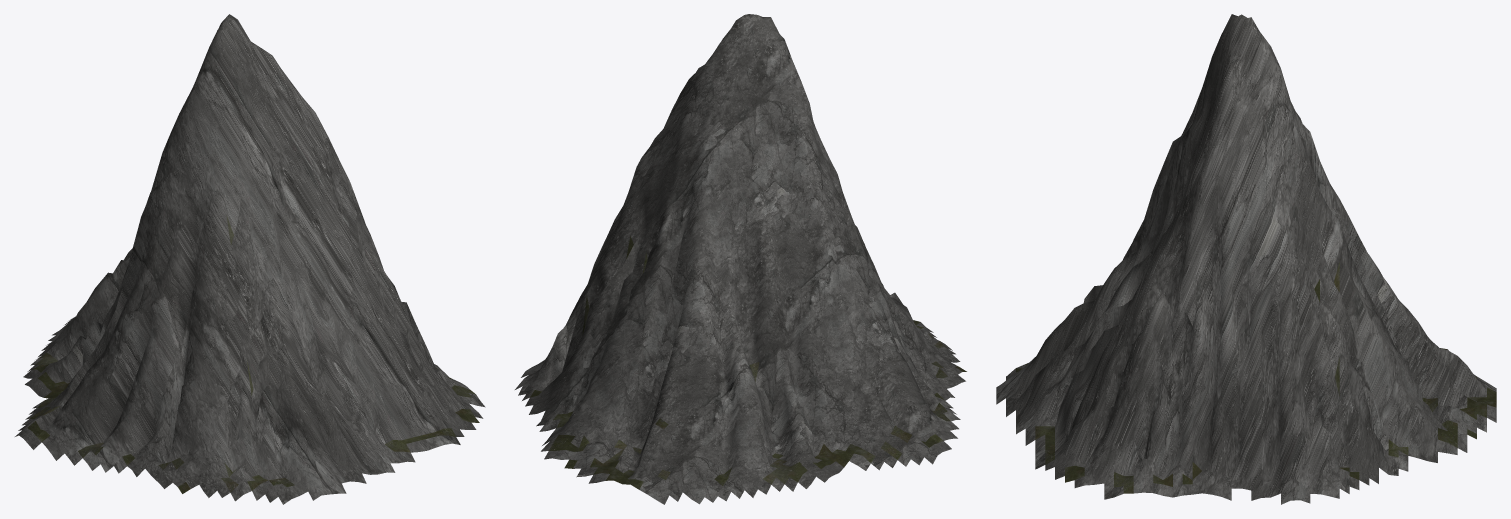
The model's file is border_peak_a_v5_summer.glb.
The picture shows the model from 3 angles, left to right: view 1: azimuth 30°, elevation 25°; view 2: azimuth 150°, elevation 25°; view 3: azimuth 270°, elevation 25°; orthographic projection.
Visible parts, largest first — view 1: border_peak_a; view 2: border_peak_a; view 3: border_peak_a.
Boxes of the visible parts, box(x1,y1,x2,y2) form: border_peak_a: box(15, 14, 485, 504); border_peak_a: box(515, 14, 966, 504); border_peak_a: box(996, 14, 1496, 504).
Bounding box in the file's own units: 0.94 × 0.8827 × 1.02.
2 materials, 2 textured.
